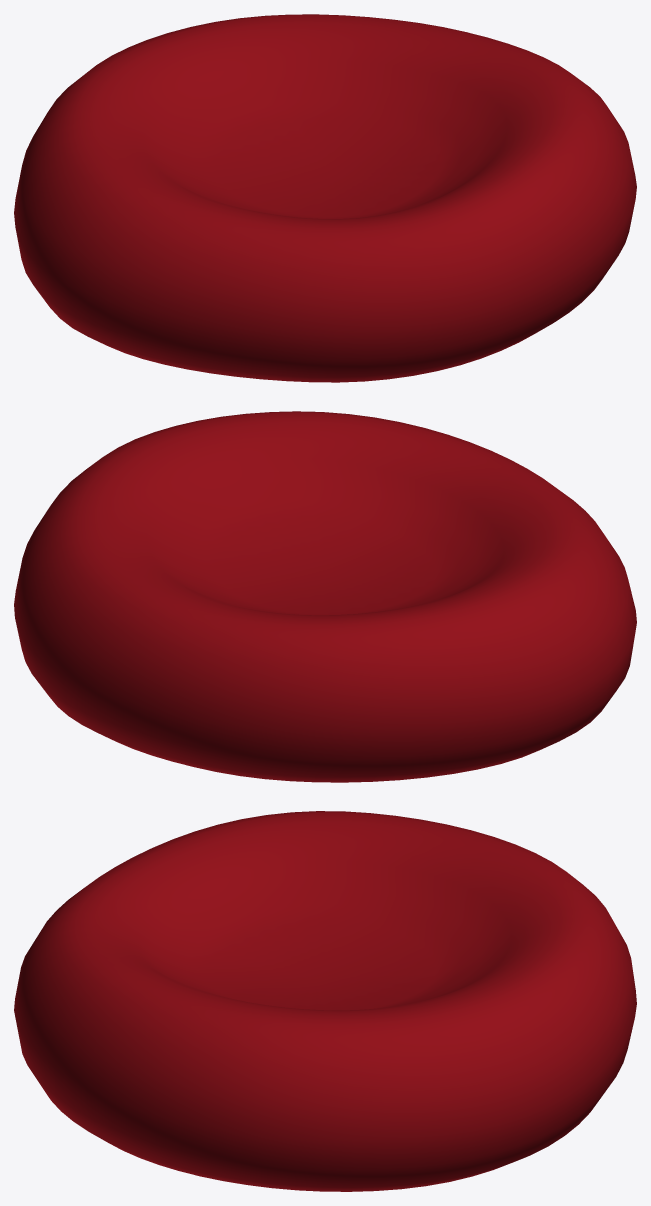
The model's file is red_blood_cell.glb.
3 renders of one model, top to bottom at view 1: azimuth 30°, elevation 25°; view 2: azimuth 150°, elevation 25°; view 3: azimuth 270°, elevation 25°, orthographic. The views are drawn at different scales.
Parts seen in each view (by area): view 1: erythrocyte texture test_0; view 2: erythrocyte texture test_0; view 3: erythrocyte texture test_0.
Boxes of the visible parts, <box> form: erythrocyte texture test_0: <box>14,14,636,382</box>; erythrocyte texture test_0: <box>14,411,636,782</box>; erythrocyte texture test_0: <box>14,811,636,1191</box>.
Size of the model in its own units: 0.9317 by 0.2764 by 0.8872.
